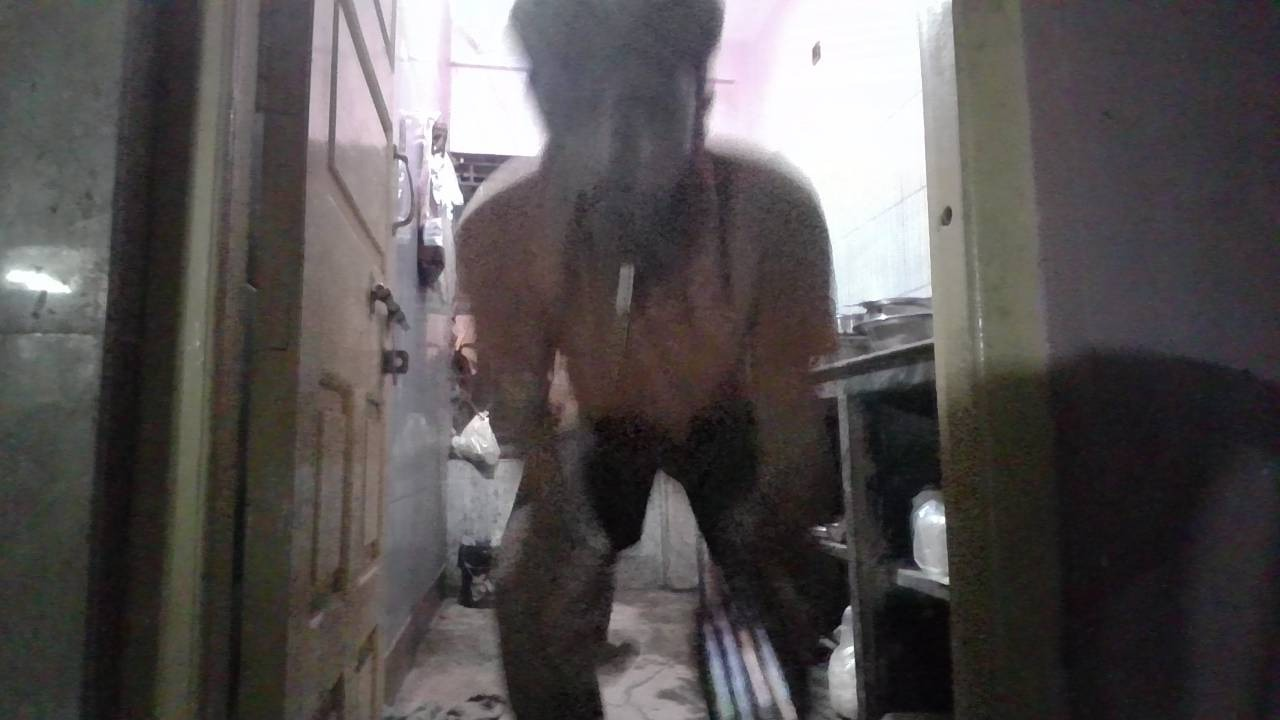red_box: (601, 344, 662, 407)
